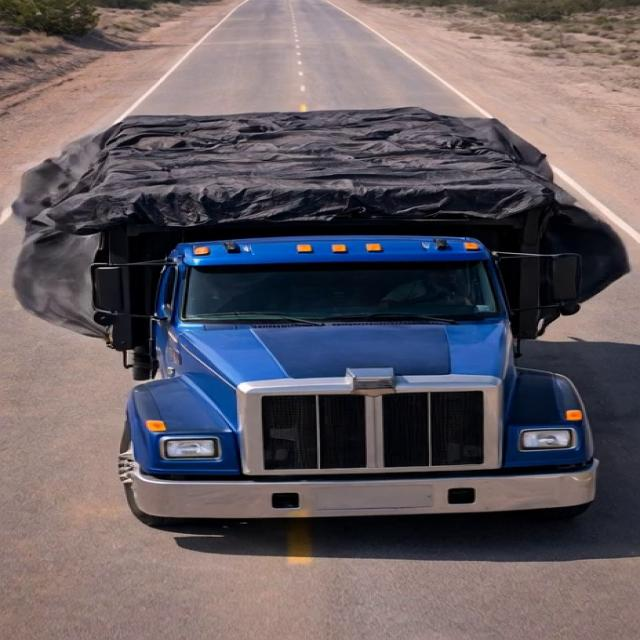Box: (38, 107, 593, 236)
Truck: (29, 64, 613, 528)
